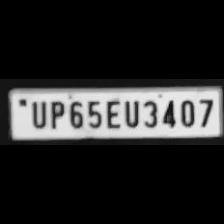0: (176, 97, 196, 127)
3: (140, 96, 160, 128)
4: (158, 96, 178, 128)
5: (84, 97, 104, 128)
6: (66, 98, 84, 130)
7: (196, 96, 216, 128)
E: (103, 97, 121, 128)
P: (46, 98, 66, 130)
U: (26, 97, 48, 128), (121, 96, 141, 128)
